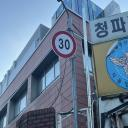speed_limit_30: (50, 29, 78, 60)
